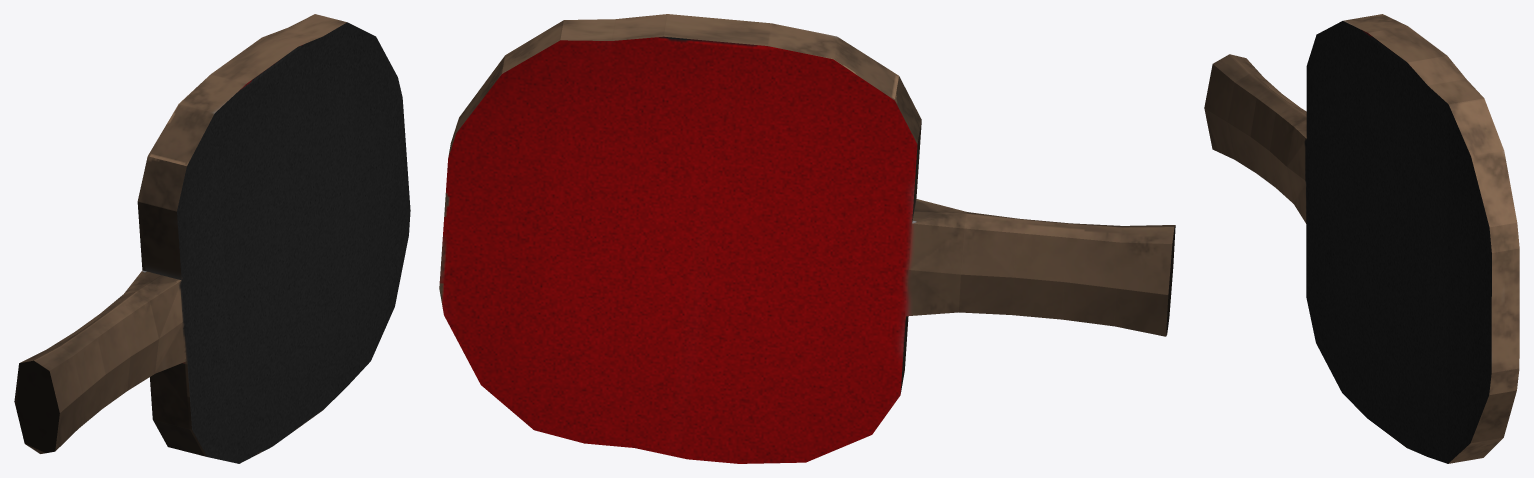
File: pingpong.glb
3 renders of one model, left to right at view 1: azimuth 30°, elevation 25°; view 2: azimuth 150°, elevation 25°; view 3: azimuth 270°, elevation 25°, orthographic. The views are drawn at different scales.
Parts seen in each view (by area): view 1: Plane; view 2: Plane; view 3: Plane.
Boxes of the visible parts, x1,y1,x2,y2 form: Plane: (14, 14, 410, 463); Plane: (439, 14, 1175, 463); Plane: (1204, 14, 1519, 463).
Size of the model in its own units: 1.04 by 0.7276 by 0.5478.
Materials: 1 (1 with a texture image).
